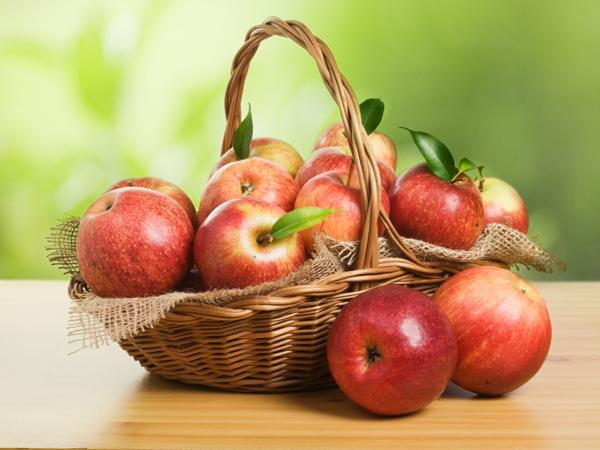apples: (216, 72, 509, 300), (435, 188, 584, 405), (49, 152, 198, 324), (298, 269, 453, 413)
